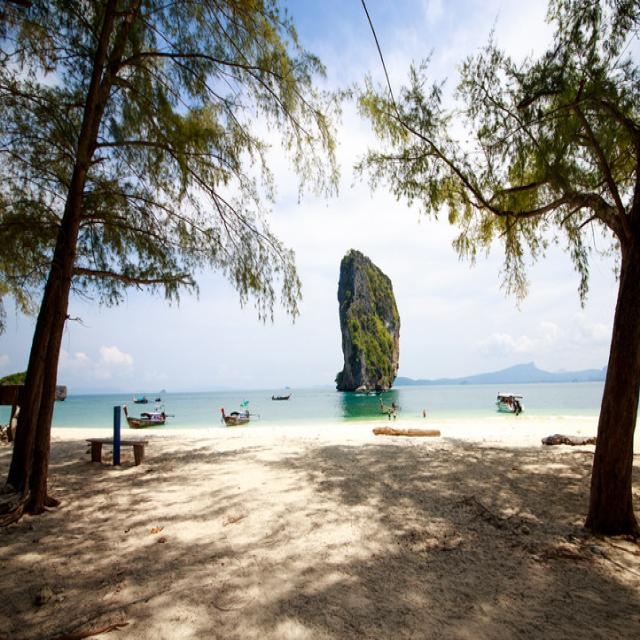reef: (325, 237, 408, 393)
